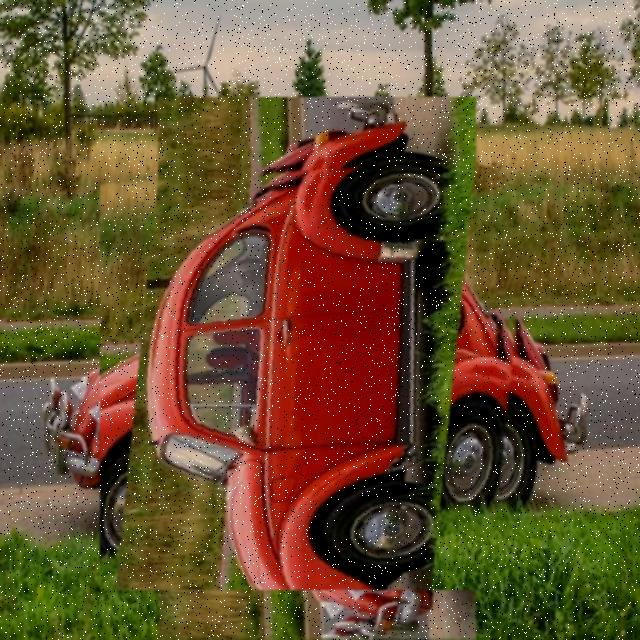car: (101, 156, 535, 591)
